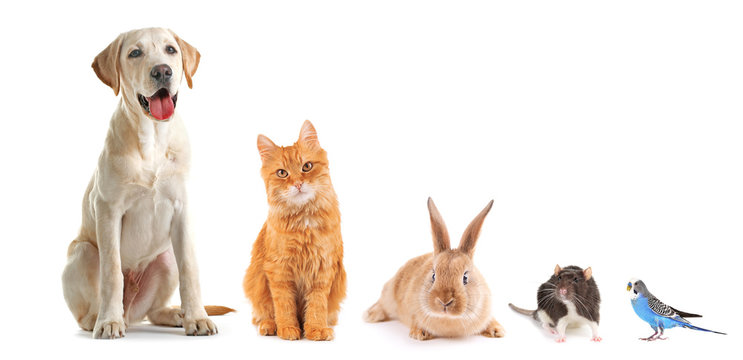cat: (240, 110, 346, 331)
dog: (76, 28, 202, 347)
rabbit: (391, 186, 504, 355)
